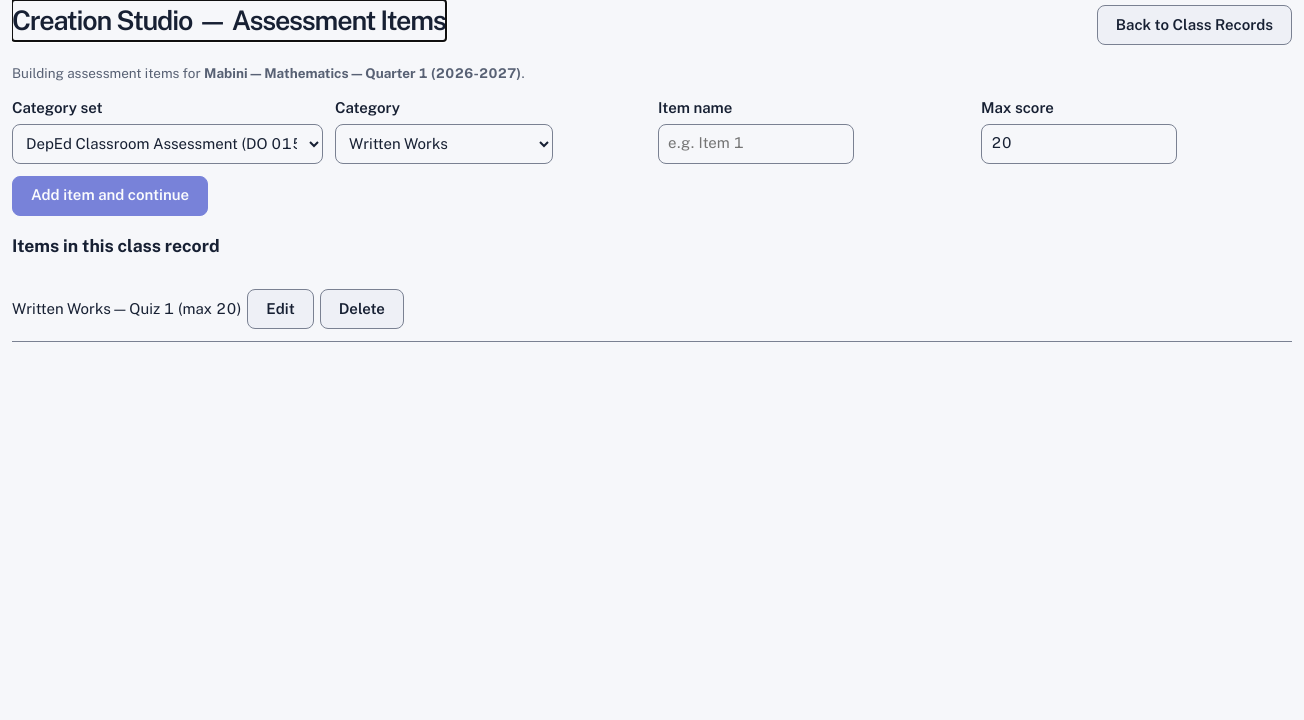
Test: AssessmentAuthoringScreen › adds an item and keeps the form open with only the name cleared
Expected: the text "Written Works — Quiz 1 (max 20)" is shown, [12, 298, 241, 320]
Type "Quiz 2" into the field labelled "Item name" at (756, 144), box [658, 124, 854, 164]
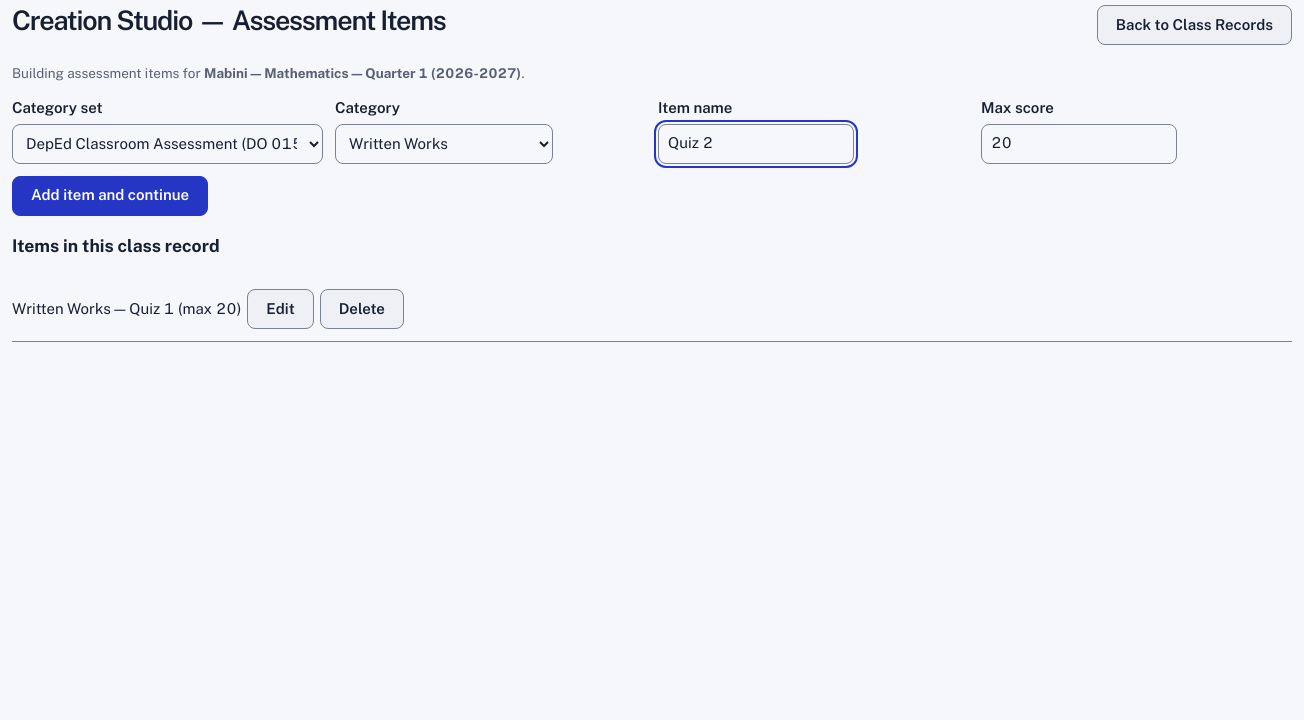
Click the button "Add item and continue" at (110, 196), box [12, 176, 208, 216]
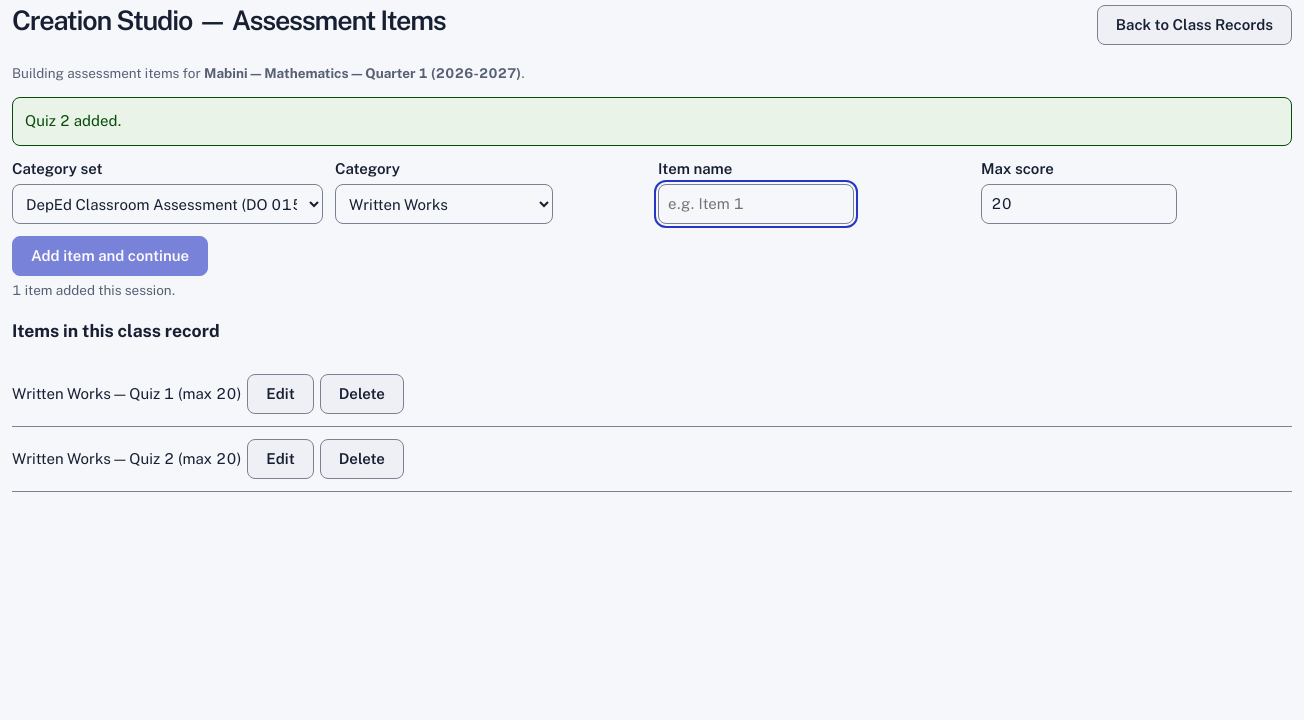
Expected: the text "Written Works — Quiz 2 (max 20)" is shown, [12, 448, 241, 470]
Expected: the field labelled "Item name" is empty, [658, 184, 854, 224]
Expected: the text "1 item added this session." is shown, [12, 282, 176, 298]
